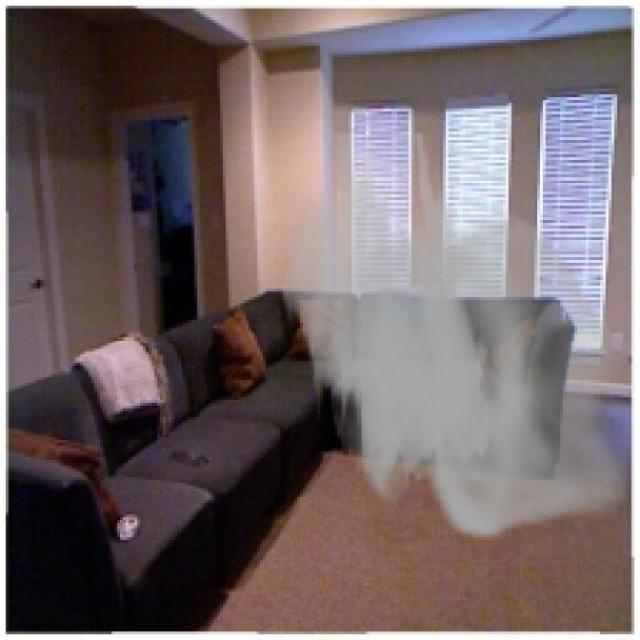Smoke: (277, 128, 629, 540)
